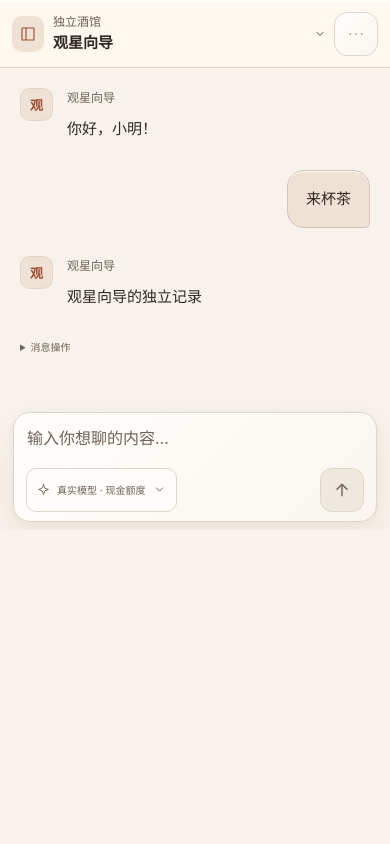
it: combines the phone agent selector and history into one header button
The image size is (390, 844).
Check: the text "观星向导的独立记录" is shown, box [67, 286, 202, 306]
Check: the button "会话历史" is not shown
Click the button with aria-label "智能体与会话" at (28, 34), box [12, 10, 326, 58]
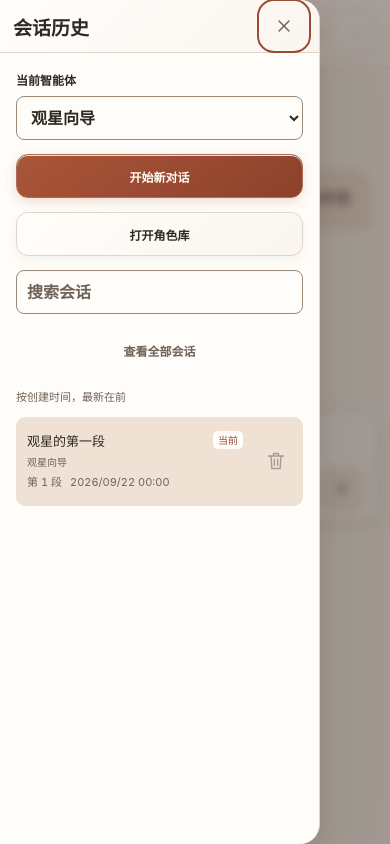
Select "故事旅行家" in the dropdown labelled "当前智能体" at (160, 118), box [16, 96, 303, 140]
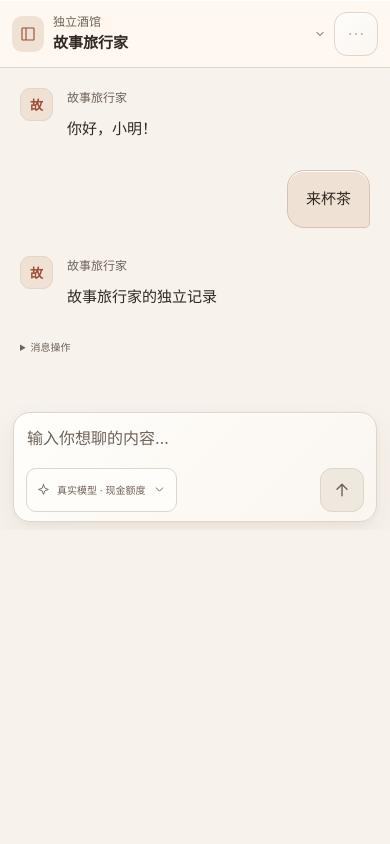
Check: the text "故事旅行家的独立记录" is shown, box [67, 286, 217, 306]
Check: the dialog is gone
Check: the button with aria-label "智能体与会话" shows "故事旅行家", box [12, 10, 326, 58]
